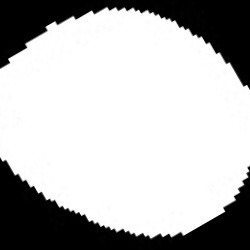spot: (1, 6, 249, 238)
